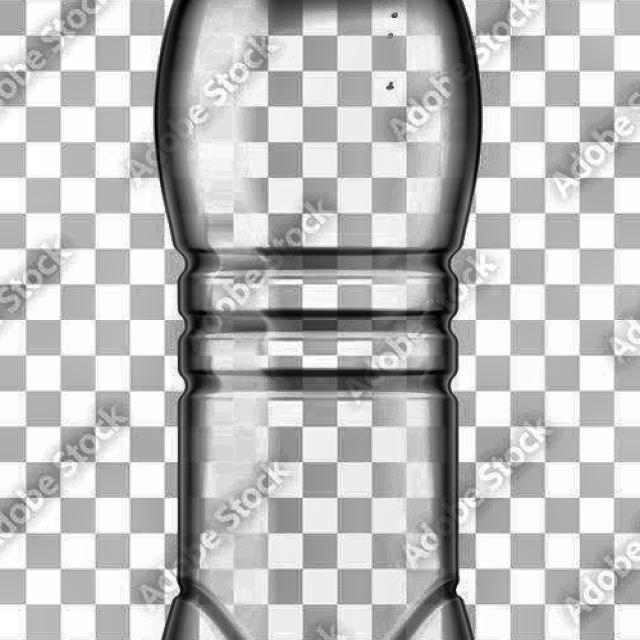bottle: (152, 0, 485, 640)
